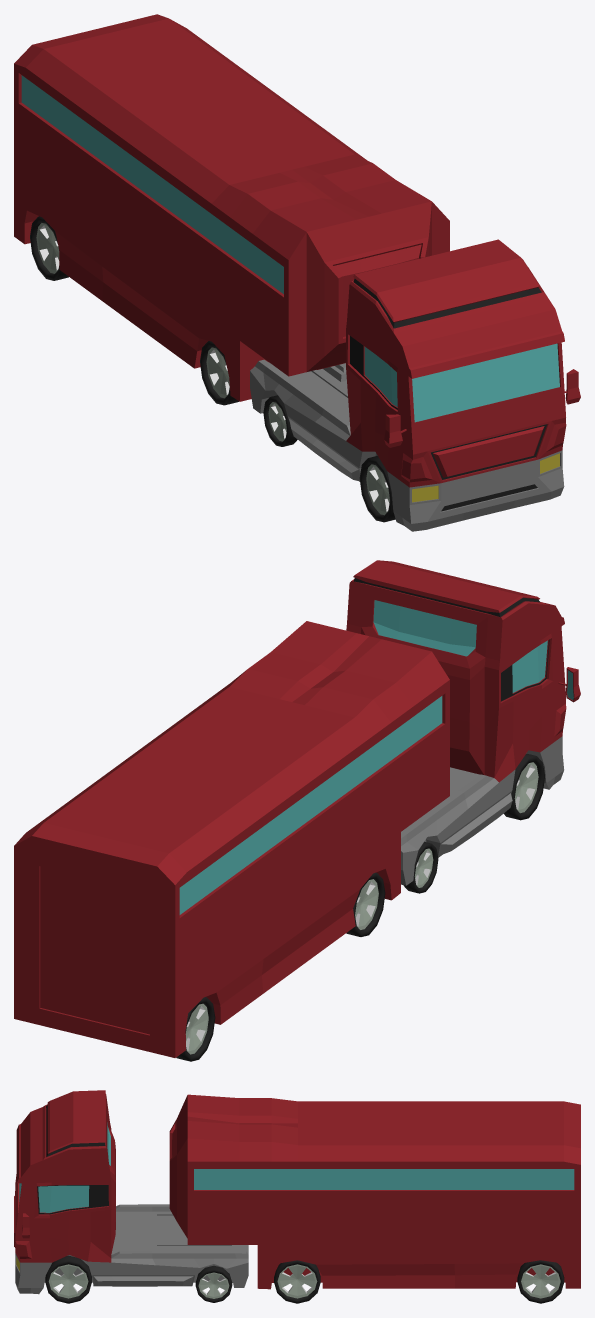
File: InvertedTruck.fbx
The picture shows the model from 3 angles, top to bottom: view 1: azimuth 30°, elevation 25°; view 2: azimuth 150°, elevation 25°; view 3: azimuth 270°, elevation 25°; orthographic projection. The views are drawn at different scales.
Visible parts, largest first — view 1: Truck; view 2: Truck; view 3: Truck.
Boxes of the visible parts, bbox=[...] form: Truck: bbox=[14, 14, 580, 531]; Truck: bbox=[14, 560, 580, 1061]; Truck: bbox=[14, 1090, 580, 1303].
Size of the model in its own units: 307 by 346 by 1098.
